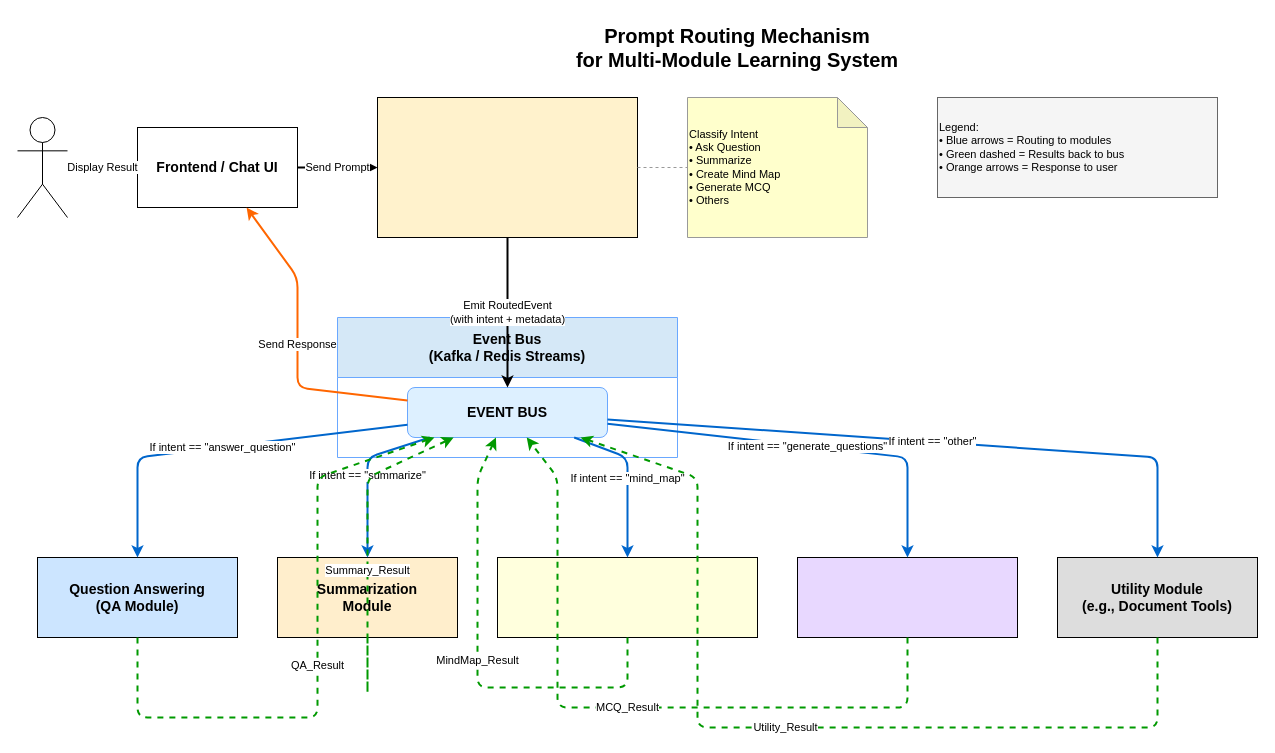
This 1275x753 diagram has some shape labels left out. The box of each missing label's shape, as (x1, y1, x2, y2) in pixels:
Mind Map Module (Summarization + Concept Hierarchy): (496, 556, 758, 638)
Question Generation (QG Module – MCQ): (796, 556, 1018, 638)
ROUTER (Prompt Classifier + Intent Detector): (376, 96, 638, 238)
User: (16, 116, 68, 218)
